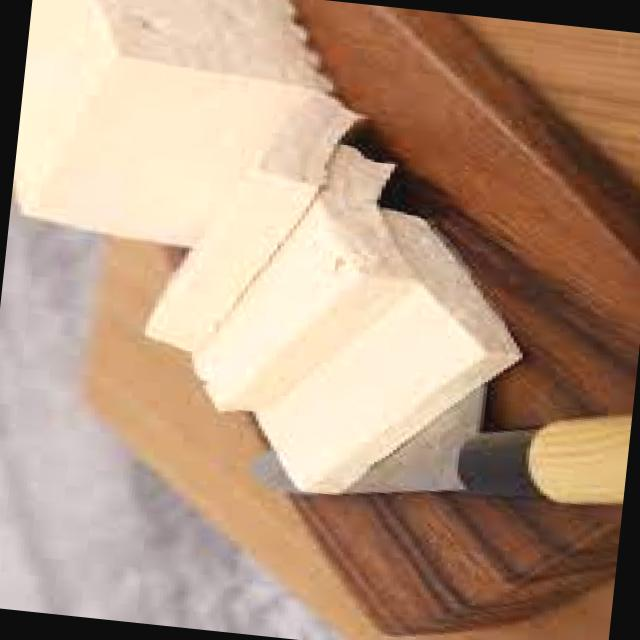tof: (117, 68, 574, 533), (2, 0, 407, 326)
